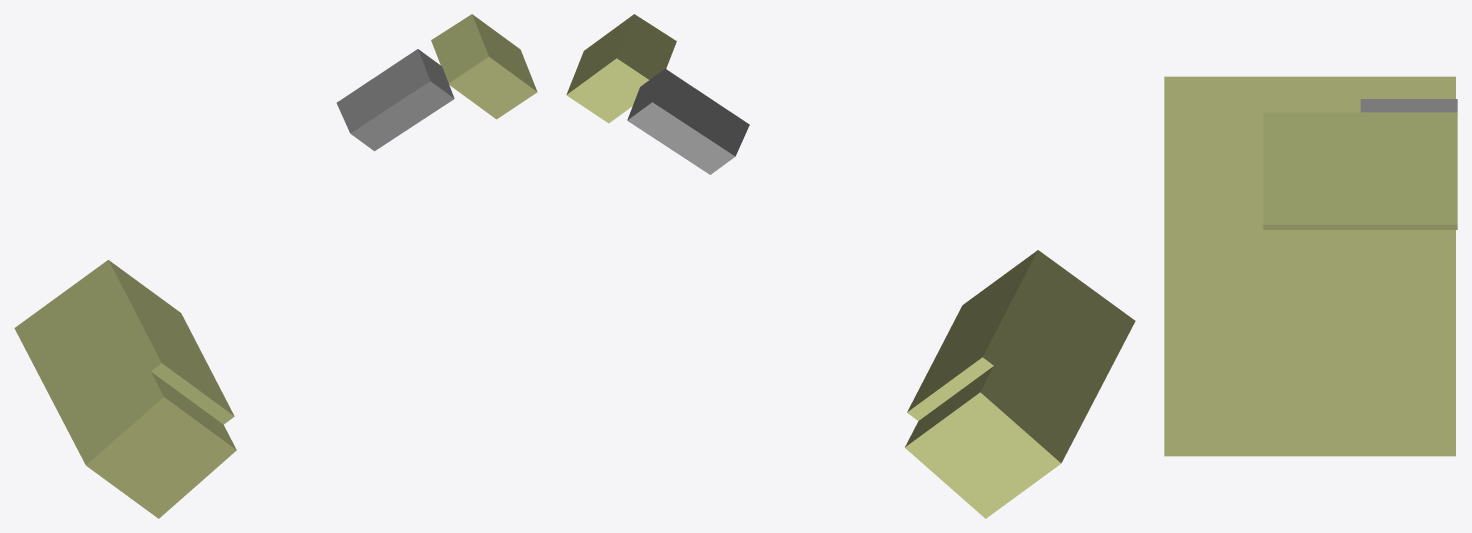
The picture shows the model from 3 angles, left to right: view 1: azimuth 30°, elevation 25°; view 2: azimuth 150°, elevation 25°; view 3: azimuth 270°, elevation 25°; orthographic projection. The views are drawn at different scales.
Parts seen in each view (by area): view 1: 0_1_1_3_2_2_0_3_2; view 2: 0_1_1_3_2_2_0_3_2; view 3: 0_1_1_3_2_2_0_3_2.
Part boxes in pixels (<box>): 0_1_1_3_2_2_0_3_2: <box>14,14,537,518</box>; 0_1_1_3_2_2_0_3_2: <box>566,14,1135,518</box>; 0_1_1_3_2_2_0_3_2: <box>1164,76,1457,456</box>.
Size of the model in its own units: 33.86 by 24.31 by 9.06.
